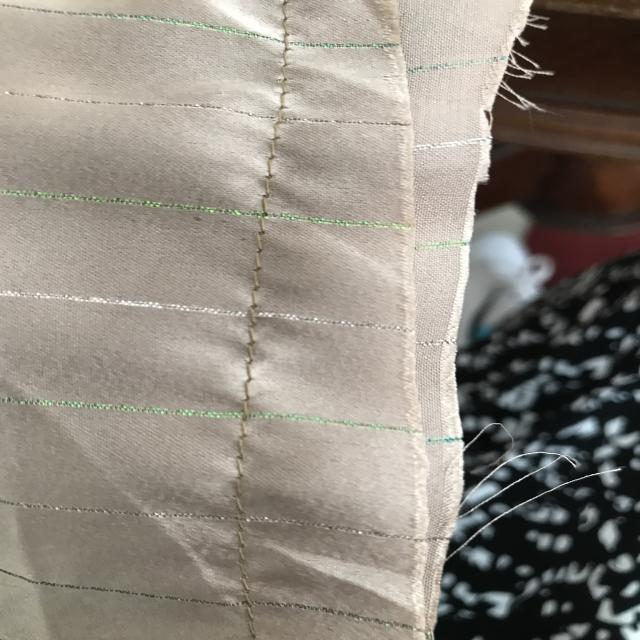good: (238, 133, 315, 192), (214, 434, 271, 492), (250, 227, 272, 300)
